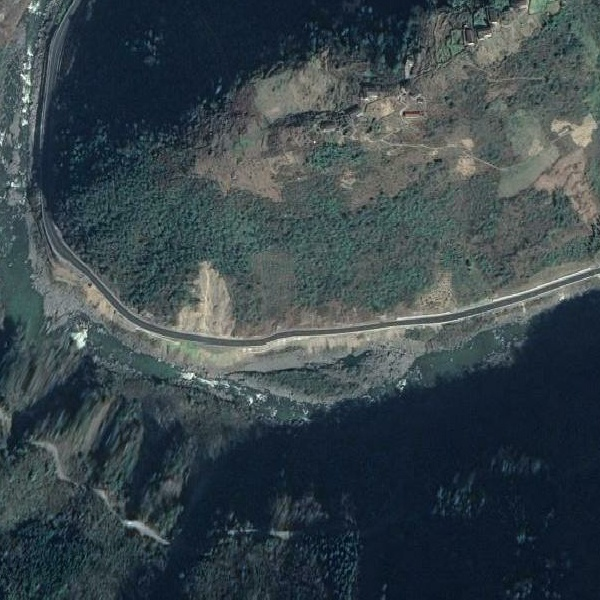slope: (170, 257, 239, 334), (46, 262, 109, 331), (407, 269, 459, 313)
